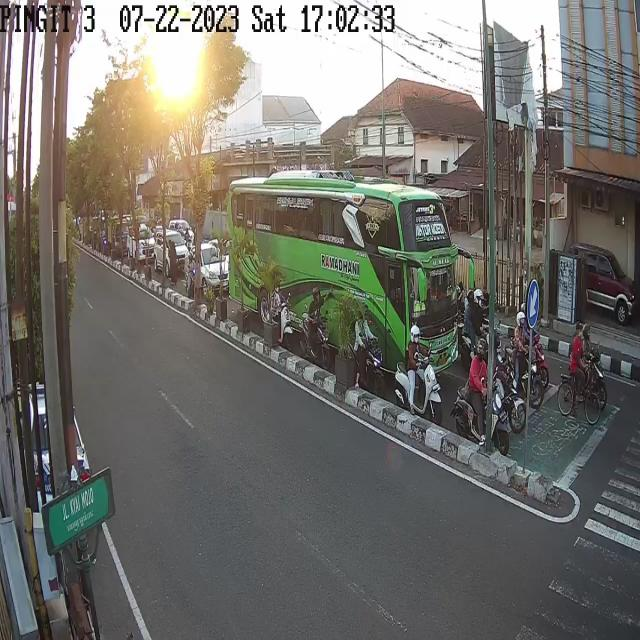bus: (229, 170, 457, 372)
car: (576, 245, 636, 328), (185, 244, 232, 299), (124, 218, 158, 273), (155, 227, 187, 276)
motorcycle: (457, 342, 508, 471), (394, 327, 444, 429), (482, 330, 524, 425), (350, 305, 387, 398), (509, 307, 544, 404), (576, 316, 606, 412), (300, 288, 328, 370), (266, 272, 292, 346)
